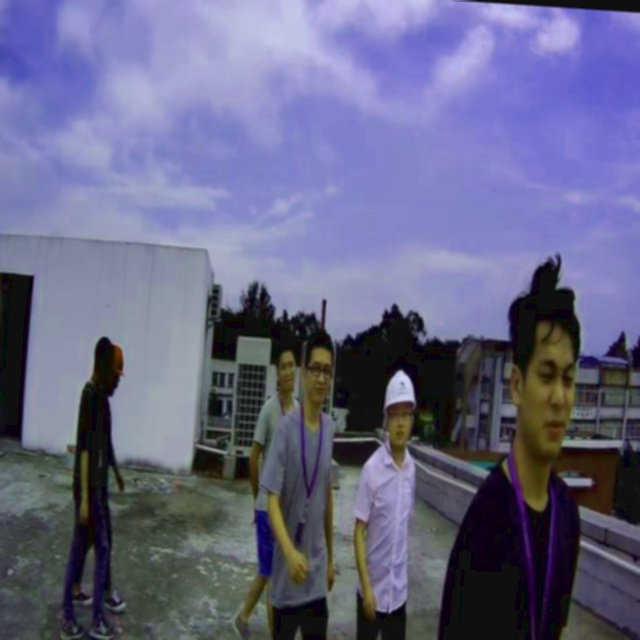Con_Casco: (379, 368, 417, 449)
Sin_Casco_Mascarrilla: (299, 327, 338, 405)
